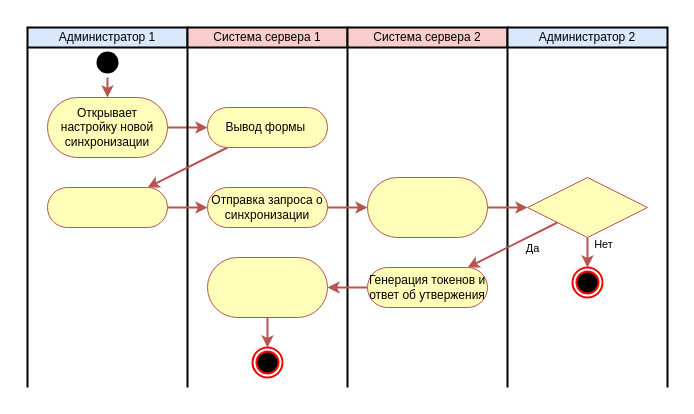
Some shapes in this 694 by 414 pixel diagram are drawn without their labels. Here are the shapes that lost their labels. From the top down, the centre of each, then its label:
the point at 107,207: Ввод данных о втором сервере
the point at 427,207: Сохранение запроса и вывод в уведомлениях
the point at 587,207: Уверждение запроса
the point at 267,287: Принятие токенов и уведомление об успехе
